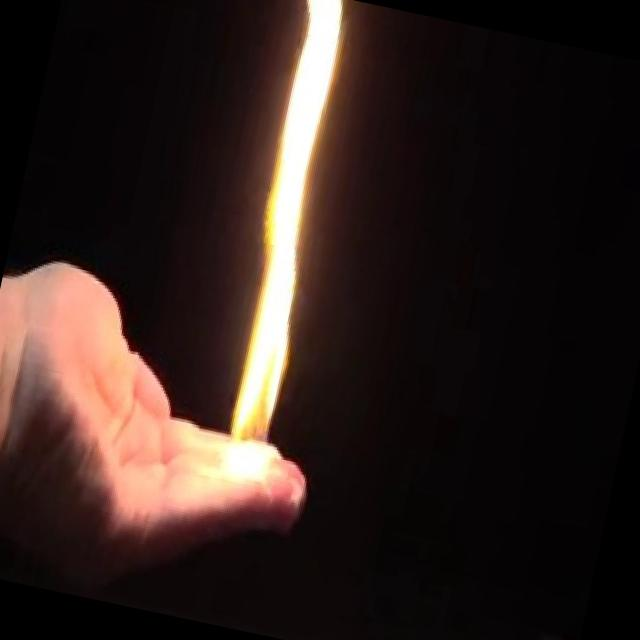Fire: (186, 0, 380, 494)
